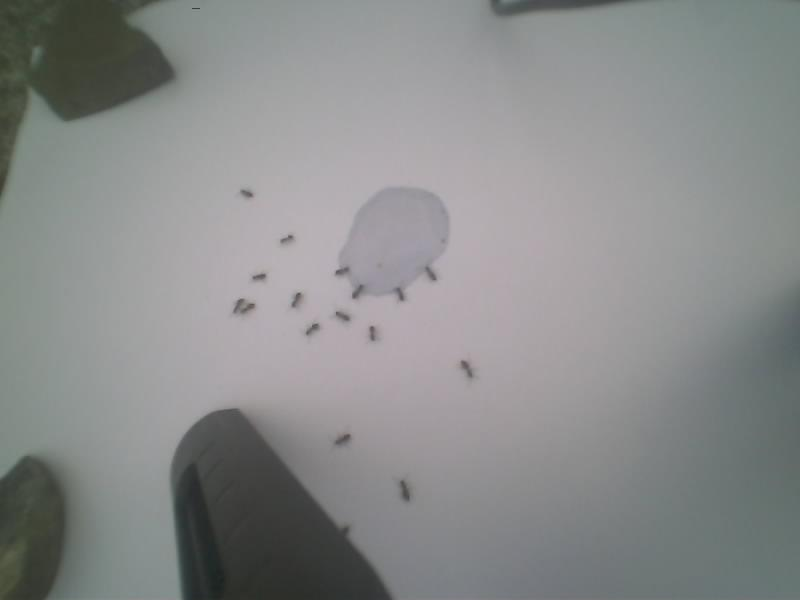Ant: (399, 479, 411, 502), (239, 301, 256, 315), (334, 433, 352, 446), (232, 297, 245, 315), (461, 360, 474, 377), (305, 323, 321, 336), (291, 293, 303, 309), (352, 283, 364, 299), (425, 266, 437, 282), (335, 312, 352, 323), (279, 235, 295, 246), (368, 324, 377, 343), (336, 266, 351, 277), (395, 285, 405, 301), (251, 273, 267, 282), (240, 189, 254, 199), (341, 523, 351, 537)
